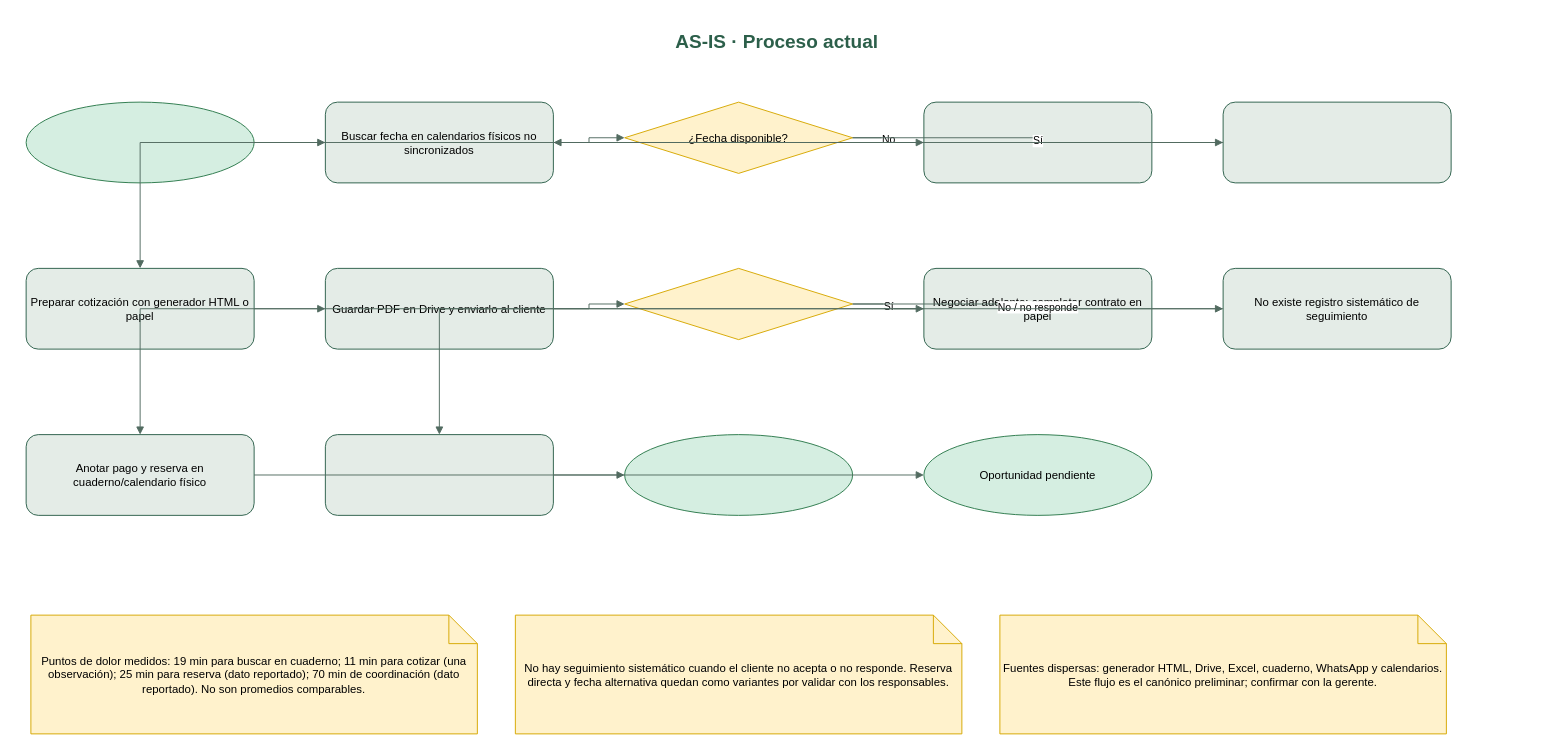
Some shapes in this 1552 by 751 pixel diagram are drawn without their labels. The centre of each missing label's shape, as x and y in pixels:
"Consultar precios en Excel, mensajes o cuaderno" belongs at [1336,142].
"Conversar fecha alternativa" belongs at [1037,142].
"Coordinar con cliente, proveedores y personal por llamadas/reuniones" belongs at [438,474].
"Fin: evento atendido" belongs at [738,474].
"Inicio: recibir consulta por WhatsApp, redes, llamada o presencial" belongs at [139,142].
"¿Cliente acepta/separa?" belongs at [738,303].
